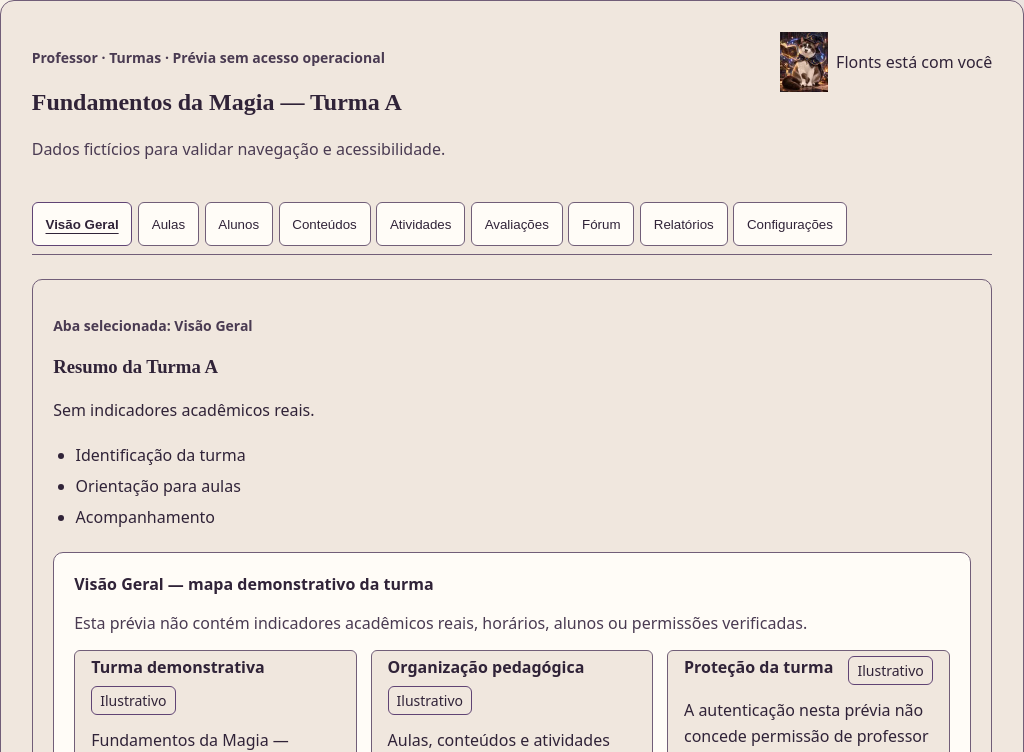
Test: Professor Turma A tabs prototype › renders student protections and overview content only on their respective tabs
Expected: the heading "Visão Geral — mapa demonstrativo da turma" is shown, [74,573,434,595]
Click the tab "Alunos" at [239, 224], box [204,202,273,246]
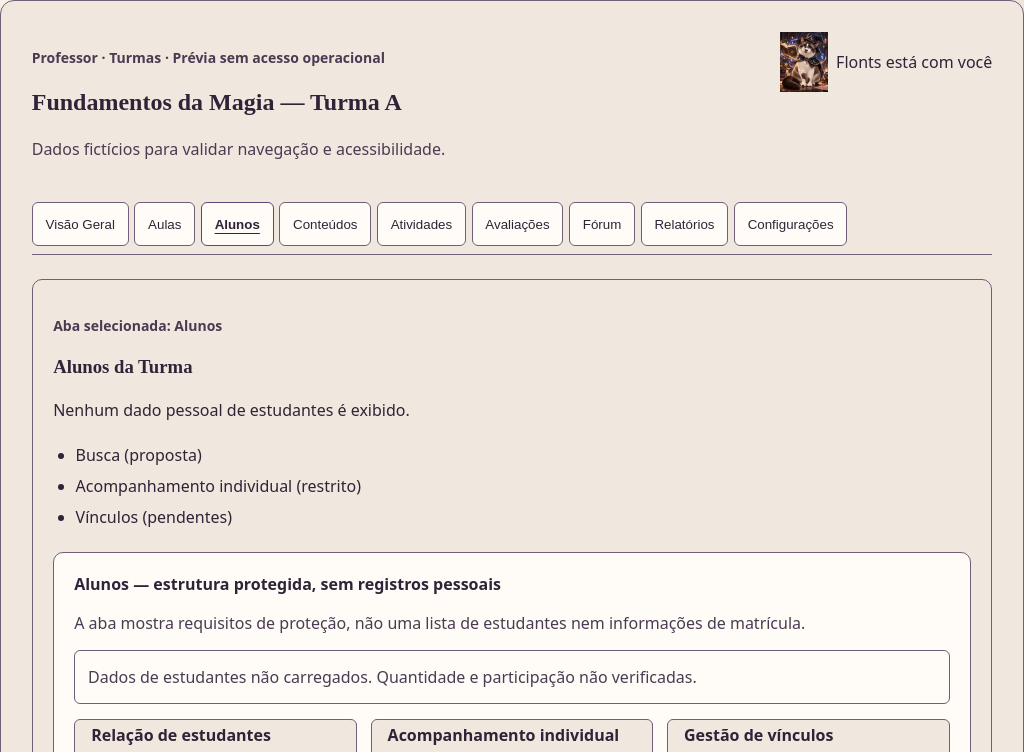
Result: the heading "Alunos — estrutura protegida, sem registros pessoais" is shown at [74,573,501,595]
Result: the message shows "Dados de estudantes não carregados" at [88,666,697,688]
Result: the heading "Visão Geral — mapa demonstrativo da turma" is gone
Click the tab "Visão Geral" at [80, 224], box [32,202,129,246]
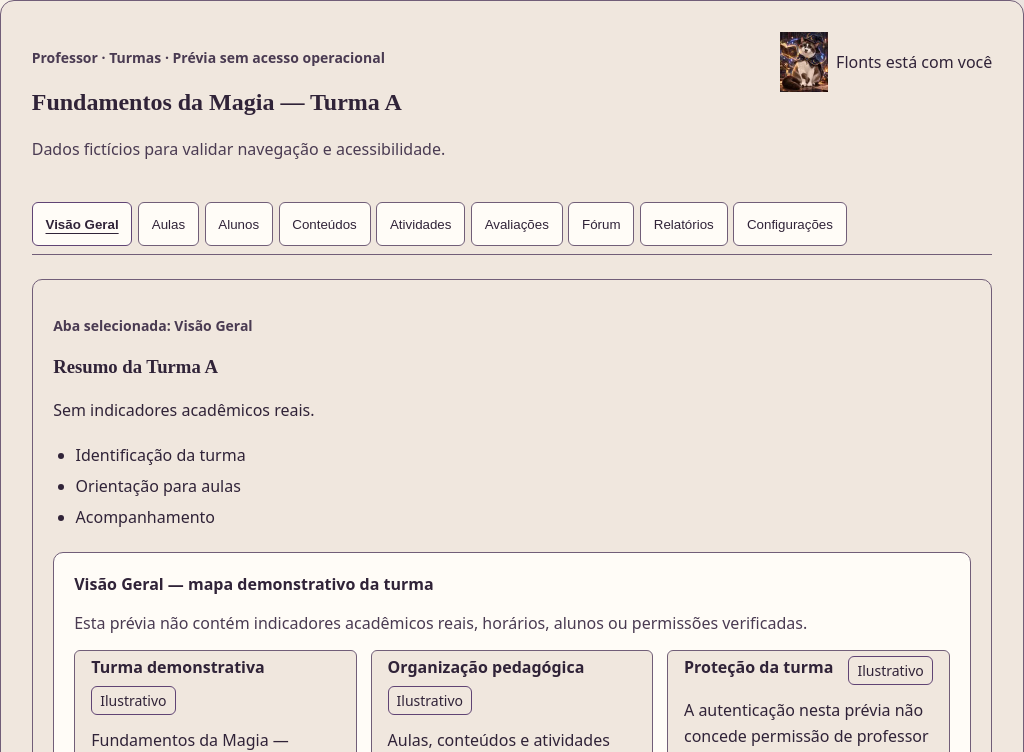
Result: the heading "Visão Geral — mapa demonstrativo da turma" is shown at [74,573,434,595]
Result: the heading "Alunos — estrutura protegida, sem registros pessoais" is gone
